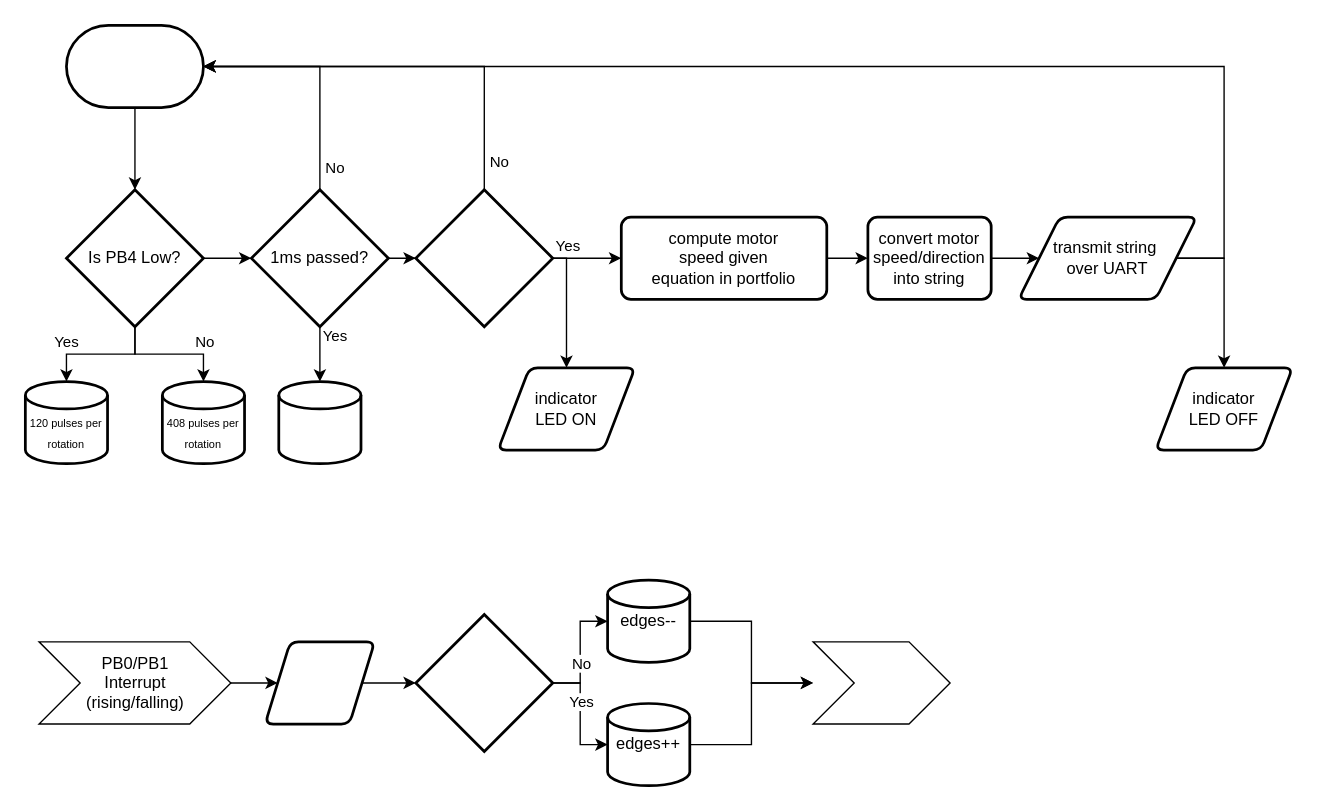
Some shapes in this 1317 by 810 pixel diagram are drawn without their labels. Here are the shapes that lost their labels. From the top down, the centre of each, then its label:
At pixel 134 65: "Main Loop".
At pixel 483 257: "mstick >= 250".
At pixel 319 421: "mstick++".
At pixel 319 682: "clear interrupt flag".
At pixel 483 682: "direction is CW".
At pixel 881 682: "Return".
